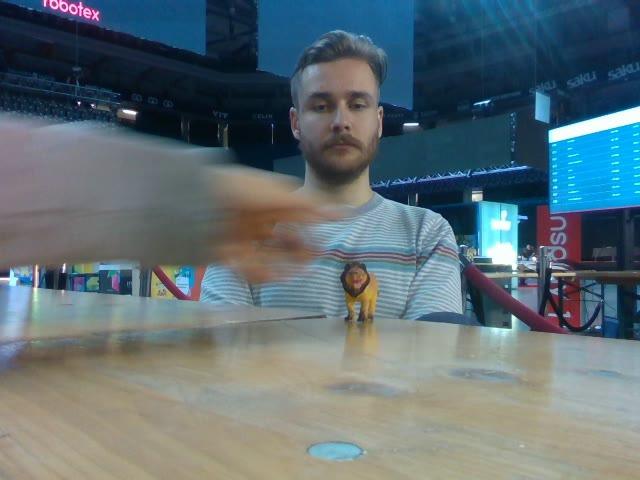toy: (337, 260, 378, 323)
